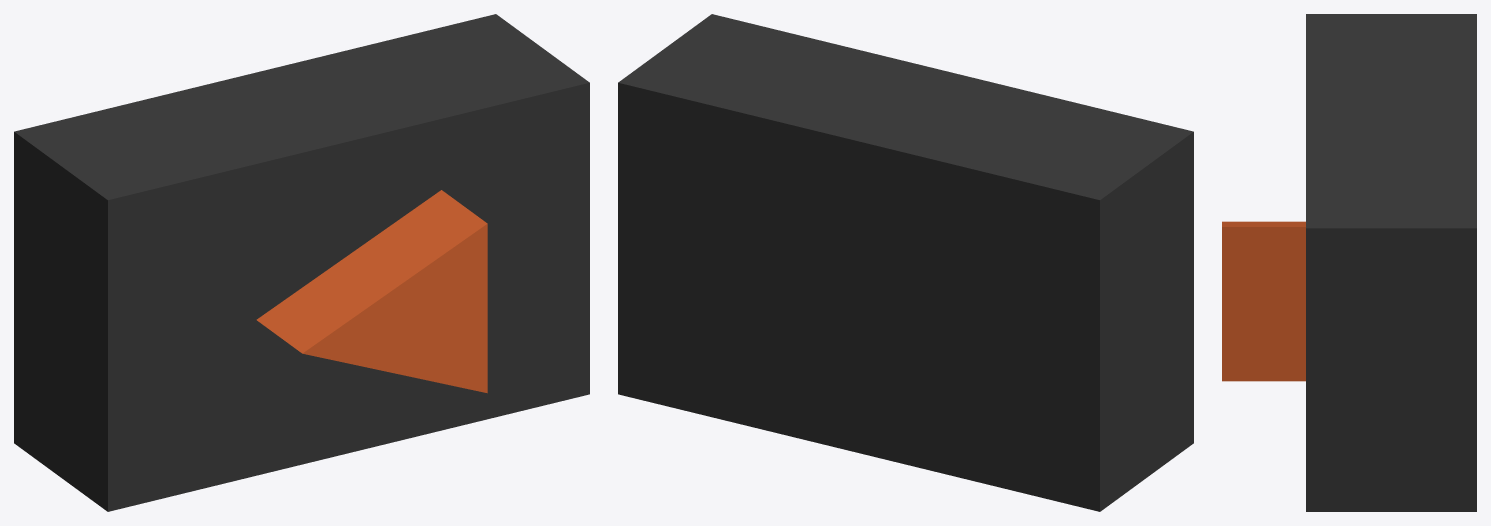
Rendered from next_button.fbx.
3 views of the same model, side by side, from view 1: azimuth 30°, elevation 25°; view 2: azimuth 150°, elevation 25°; view 3: azimuth 270°, elevation 25° (orthographic). The views are drawn at different scales.
Parts seen in each view (by area): view 1: Cube, Cube.001; view 2: Cube; view 3: Cube, Cube.001.
Boxes of the visible parts, <box> form: Cube: <box>14,14,589,511</box>; Cube.001: <box>256,190,487,393</box>; Cube: <box>618,14,1193,511</box>; Cube: <box>1306,14,1476,511</box>; Cube.001: <box>1222,221,1305,381</box>.
Size of the model in its own units: 31.54 by 19.49 by 15.86.
